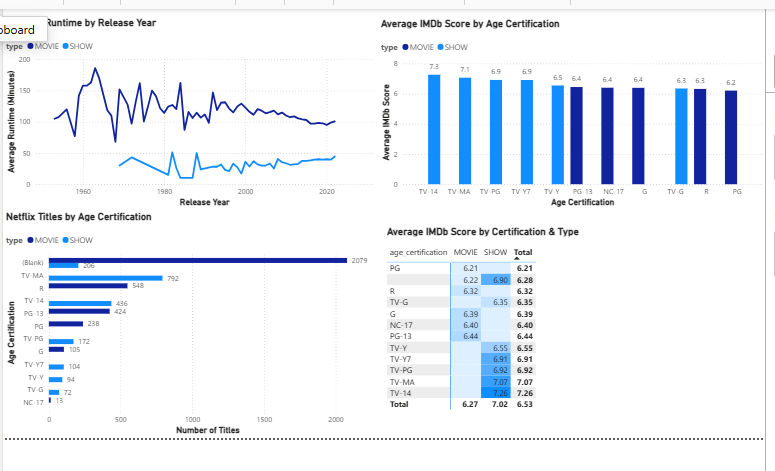

What the dashboard file says about the page in this screenshot:
{"tool":"powerbi","page":{"name":"Runtime & Certification","canvas":[1280,720],"ordinal":2},"visuals":[{"type":"lineChart","title":"Average Runtime by Release Year","fields":{"Category":["Netflix.release_year"],"Y":["Netflix.Average_Runtime"],"Series":["Netflix.type"]},"box":[0,11.8,629.9,325.9],"z":0},{"type":"clusteredColumnChart","title":"Average IMDb Score by Age Certification","fields":{"Category":["Netflix.age_certification"],"Y":["Netflix.Average_IMDB_Score"],"Series":["Netflix.type"]},"box":[629.9,13.4,650.1,324.2],"z":1000},{"type":"clusteredBarChart","title":"Netflix Titles by Age Certification","fields":{"Category":["Netflix.age_certification"],"Y":["Netflix.Total_titles"],"Series":["Netflix.type"]},"box":[0,337.6,629.9,383],"z":2000},{"type":"pivotTable","title":"Average IMDb Score by Certification & Type","fields":{"Rows":["Netflix.age_certification"],"Columns":["Netflix.type"],"Values":["Netflix.Average_IMDB_Score"]},"box":[640,362.8,640,346],"z":3000}]}

Visuals, with their boxes on the page's 1280x720 design canvas (x1, y1, x2, y2). These are canvas units, not pixel positions in the 775x471 screenshot, which may show the page scaled, cropped or inside an application window:
"Average Runtime by Release Year" lineChart: x1=0 y1=12 x2=630 y2=338
"Average IMDb Score by Age Certification" clusteredColumnChart: x1=630 y1=13 x2=1280 y2=338
"Netflix Titles by Age Certification" clusteredBarChart: x1=0 y1=338 x2=630 y2=721
"Average IMDb Score by Certification & Type" pivotTable: x1=640 y1=363 x2=1280 y2=709
